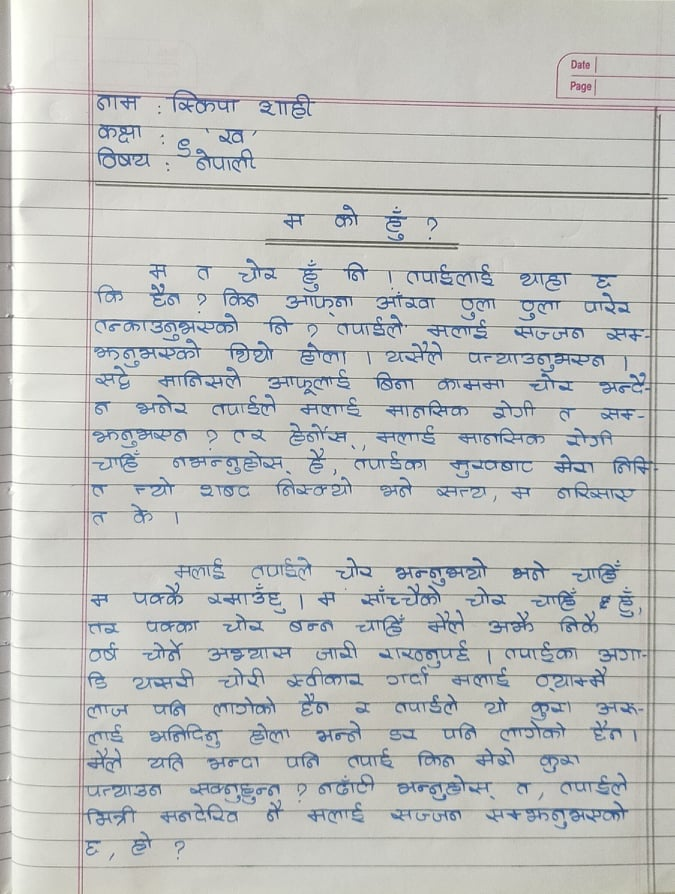text: (89, 306, 241, 341), (480, 799, 635, 833), (463, 343, 612, 372), (168, 448, 294, 478), (93, 336, 204, 369), (376, 636, 476, 672), (392, 549, 489, 586), (202, 633, 300, 668), (202, 580, 292, 618), (391, 772, 501, 802), (401, 260, 499, 292), (83, 423, 197, 449), (153, 361, 245, 392), (554, 477, 637, 511), (268, 474, 362, 504), (261, 367, 354, 397), (163, 84, 245, 118), (138, 722, 230, 752), (187, 776, 285, 804), (444, 451, 536, 480), (354, 582, 449, 610), (329, 307, 407, 340), (382, 395, 473, 423), (529, 662, 612, 692), (208, 388, 283, 420), (158, 800, 242, 828), (279, 666, 366, 693), (76, 774, 163, 801), (498, 640, 586, 666), (90, 138, 155, 173), (279, 288, 357, 317), (279, 419, 354, 449), (254, 86, 319, 120), (247, 553, 318, 584), (498, 715, 569, 746), (505, 319, 589, 345), (188, 146, 263, 175), (550, 773, 633, 799), (345, 449, 434, 473), (454, 427, 550, 449), (516, 262, 575, 297), (76, 802, 148, 830), (299, 799, 371, 827), (389, 692, 466, 718), (125, 580, 190, 610), (207, 693, 282, 719), (197, 473, 256, 506), (389, 804, 470, 828), (129, 392, 198, 420), (234, 253, 289, 288), (317, 770, 379, 801), (424, 314, 490, 343), (446, 663, 514, 691), (370, 289, 440, 316), (168, 555, 233, 584), (296, 394, 368, 420), (352, 609, 410, 641), (124, 668, 201, 691), (567, 558, 626, 588), (515, 287, 567, 321), (384, 339, 447, 367), (331, 549, 380, 585), (598, 371, 655, 401), (296, 339, 351, 370), (310, 637, 363, 669), (579, 290, 637, 319), (483, 610, 539, 640), (139, 613, 206, 638), (417, 610, 474, 639), (90, 116, 146, 145), (547, 450, 603, 479), (367, 366, 421, 396), (220, 606, 270, 638), (433, 374, 509, 395), (281, 609, 340, 636), (216, 280, 264, 313), (89, 450, 151, 475), (372, 471, 422, 502), (373, 423, 440, 446), (525, 585, 581, 612), (554, 610, 604, 640), (224, 339, 279, 366), (313, 722, 368, 749), (526, 371, 579, 399), (433, 478, 490, 504), (241, 720, 298, 746), (588, 714, 628, 751), (82, 744, 129, 775), (587, 697, 643, 723), (204, 750, 267, 773), (341, 748, 404, 771), (226, 419, 271, 451), (461, 584, 512, 612), (455, 290, 501, 321), (564, 427, 620, 452), (87, 363, 135, 392), (508, 555, 554, 585), (141, 635, 187, 665), (93, 88, 146, 114), (80, 697, 135, 722), (610, 452, 659, 480), (328, 198, 366, 234), (380, 666, 437, 690), (123, 499, 163, 533), (488, 397, 540, 423), (411, 746, 463, 772), (212, 667, 273, 689), (597, 643, 646, 670), (378, 201, 411, 241), (291, 690, 335, 720), (79, 718, 123, 748), (145, 281, 187, 312), (532, 750, 583, 775), (131, 475, 180, 501), (91, 279, 130, 311), (80, 613, 126, 640), (527, 698, 576, 723), (472, 745, 519, 771), (122, 829, 161, 860), (582, 264, 624, 292), (337, 258, 376, 288), (436, 719, 484, 743), (295, 256, 326, 292), (281, 749, 328, 772), (146, 694, 189, 719), (260, 311, 298, 339), (600, 402, 641, 427), (146, 750, 189, 773), (85, 586, 119, 614), (84, 640, 122, 665), (75, 666, 111, 692), (612, 591, 641, 623), (508, 478, 541, 506), (256, 799, 289, 825), (602, 326, 646, 345), (304, 444, 330, 476), (217, 122, 248, 147), (316, 583, 341, 614), (189, 258, 216, 286), (76, 837, 106, 862), (385, 725, 422, 745), (141, 259, 173, 282), (480, 694, 515, 715), (280, 207, 308, 231), (86, 397, 116, 419), (85, 508, 115, 530), (351, 697, 378, 720), (554, 401, 577, 427), (82, 480, 112, 499), (511, 777, 536, 799), (176, 133, 193, 161)
